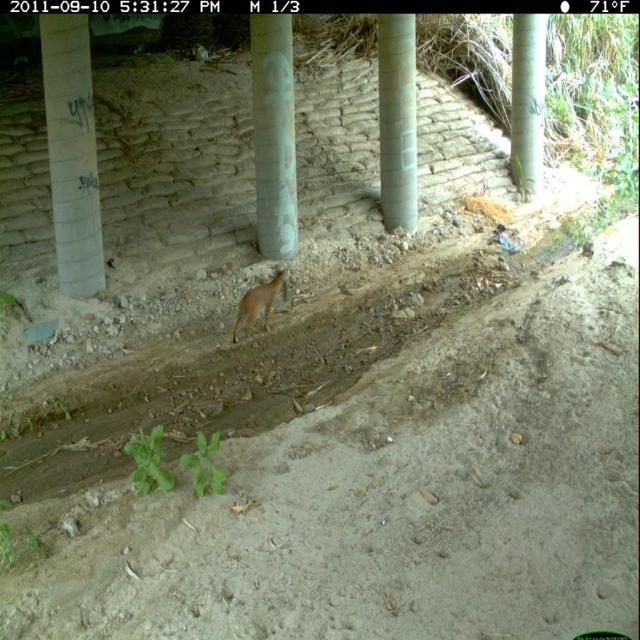bobcat: (231, 266, 291, 348)
rabbit: (281, 277, 292, 311)
